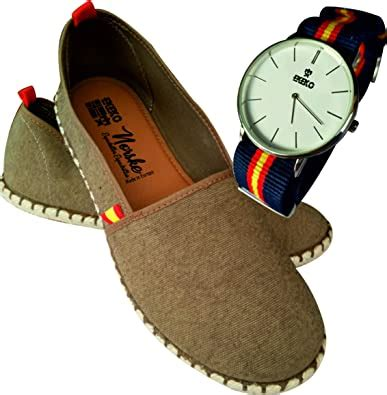nylon: (4, 97, 332, 384)
